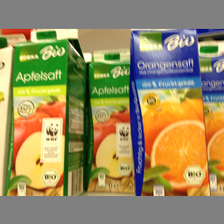juice: (129, 29, 210, 195), (7, 29, 86, 195), (86, 48, 135, 193)
